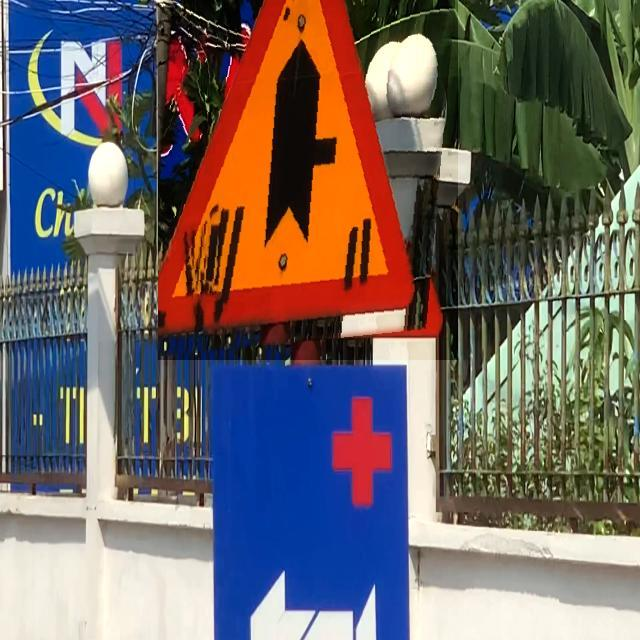W-207b: (158, 0, 458, 360)
